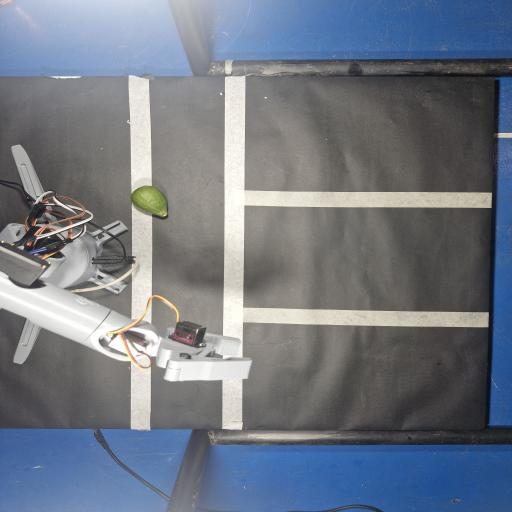higo: (131, 186, 167, 217)
